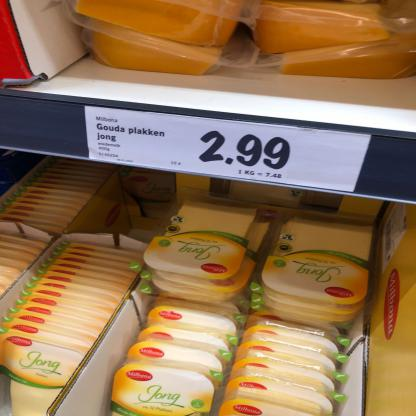prtg: (85, 106, 373, 193)
